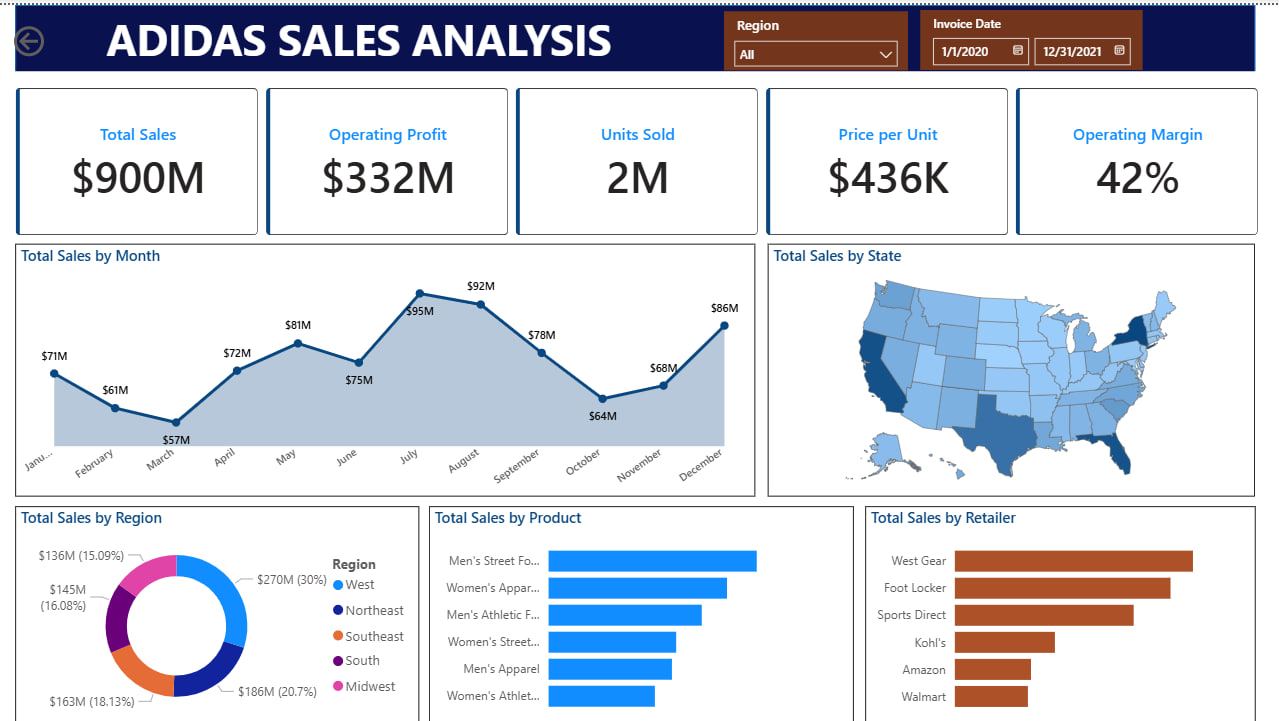

What the dashboard file says about the page in this screenshot:
{"tool":"powerbi","page":{"name":"Page 1","canvas":[1280,720],"ordinal":0},"visuals":[{"type":"shape","box":[15.7,0,1240,70],"z":0},{"type":"textbox","box":[102.9,0,536.5,70],"z":1000},{"type":"cardVisual","fields":{"Data":["Sum(Data Sales Adidas.Total Sales)","Sum(Data Sales Adidas.Operating Profit)","Sum(Data Sales Adidas.Units Sold)","Sum(Data Sales Adidas.Price per Unit)","Avg(Data Sales Adidas.Operating Margin)"]},"box":[0,65.7,1280,181.4],"z":2000},{"type":"areaChart","title":"Total Sales by Month","fields":{"Category":["Data Sales Adidas.Invoice Date.Variation.Date Hierarchy.Month"],"Y":["Sum(Data Sales Adidas.Total Sales)"]},"box":[15.7,238.6,740,252.9],"z":3000},{"type":"shapeMap","title":"Total Sales by State","fields":{"Category":["Data Sales Adidas.State"],"Value":["Sum(Data Sales Adidas.Total Sales)"]},"box":[768.6,238.6,487.1,252.9],"z":4000},{"type":"actionButton","box":[10,15.7,100,40],"z":5000},{"type":"donutChart","title":"Total Sales by Region","fields":{"Category":["Data Sales Adidas.Region"],"Y":["Sum(Data Sales Adidas.Total Sales)"]},"box":[15.7,501.4,404.3,220],"z":6000},{"type":"barChart","title":"Total Sales by Product","fields":{"Category":["Data Sales Adidas.Product"],"Y":["Sum(Data Sales Adidas.Total Sales)"]},"box":[430,501.7,425,218.3],"z":7000},{"type":"barChart","title":"Total Sales by Retailer","fields":{"Category":["Data Sales Adidas.Retailer"],"Y":["Sum(Data Sales Adidas.Total Sales)"]},"box":[865.7,501.4,390,218.6],"z":8000},{"type":"slicer","fields":{"Values":["Data Sales Adidas.Region"]},"box":[724.5,6.9,183.9,59],"z":9000},{"type":"slicer","fields":{"Values":["Data Sales Adidas.Invoice Date"]},"box":[920.8,5.5,222.3,60.4],"z":10000}]}

Visuals, with their boxes in screenshot pixels (x1, y1, x2, y2), scaled from the page's 1280x720 canvas onto the 1279x721 screenshot:
shape: [16,0,1255,70]
textbox: [103,0,639,70]
cardVisual - Sum(Data Sales Adidas.Total Sales) x Sum(Data Sales Adidas.Operating Profit): [0,66,1278,247]
"Total Sales by Month" areaChart: [16,239,755,492]
"Total Sales by State" shapeMap: [768,239,1255,492]
actionButton: [10,16,110,56]
"Total Sales by Region" donutChart: [16,502,420,720]
"Total Sales by Product" barChart: [430,502,854,720]
"Total Sales by Retailer" barChart: [865,502,1255,720]
slicer - Data Sales Adidas.Region: [724,7,908,66]
slicer - Data Sales Adidas.Invoice Date: [920,6,1142,66]
